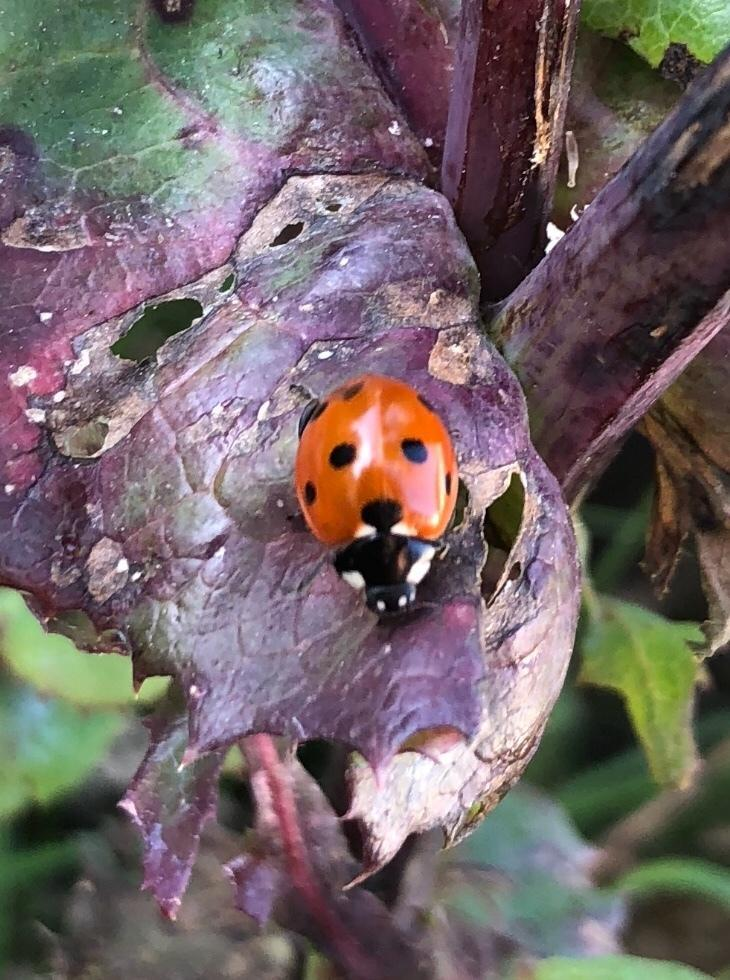ladybug: (294, 371, 466, 631)
